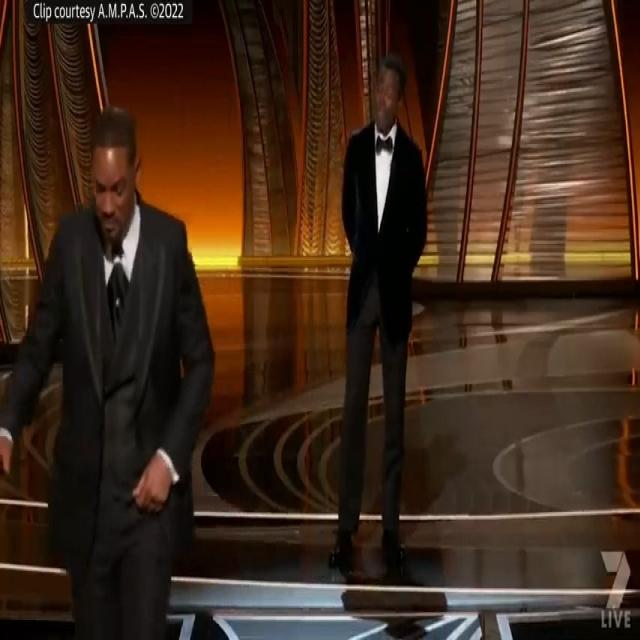non-fight: (0, 98, 213, 640), (324, 43, 428, 577)
